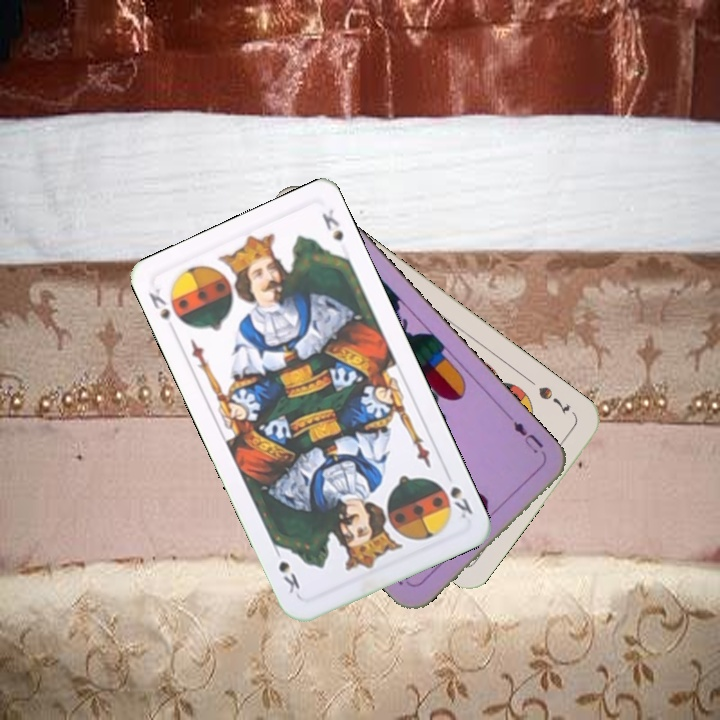EU: (509, 417, 546, 456)
S7: (534, 382, 573, 417)
SK: (144, 283, 180, 336), (446, 482, 476, 522)
